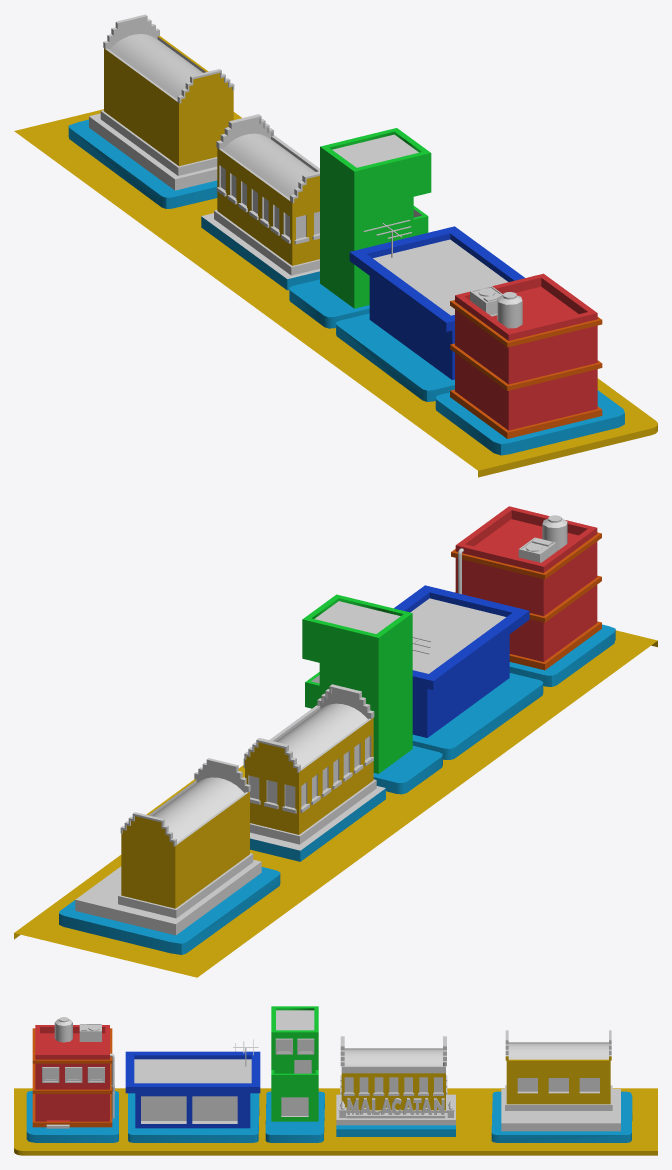
The model's file is el_rastro_m.fbx.
The picture shows the model from 3 angles, top to bottom: view 1: azimuth 30°, elevation 25°; view 2: azimuth 150°, elevation 25°; view 3: azimuth 270°, elevation 25°; orthographic projection. The views are drawn at different scales.
Visible parts, largest first — view 1: el_rastro_m; view 2: el_rastro_m; view 3: el_rastro_m.
Boxes of the visible parts, left/top/right/bottom form: el_rastro_m: left=14, top=14, right=657, bottom=477; el_rastro_m: left=14, top=506, right=657, bottom=977; el_rastro_m: left=14, top=1006, right=657, bottom=1155.
Bounding box in the file's own units: 855 × 687 × 3723.
